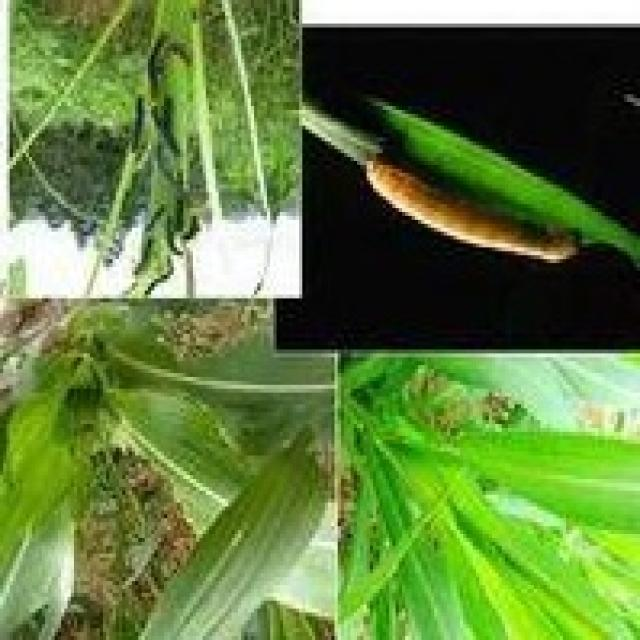army worm: (350, 150, 585, 276), (106, 27, 218, 290)
